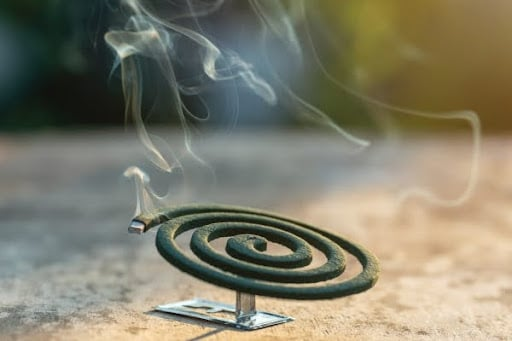Open-Flame-Hazard: (110, 149, 385, 336)
